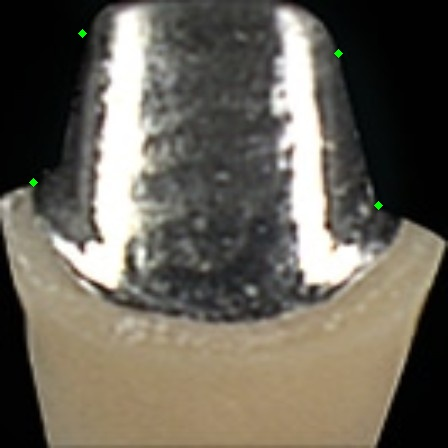coin_1: (33, 182, 53, 202)
coin_2: (82, 33, 102, 53)
coin_3: (378, 205, 398, 225)
coin_4: (338, 53, 358, 73)
